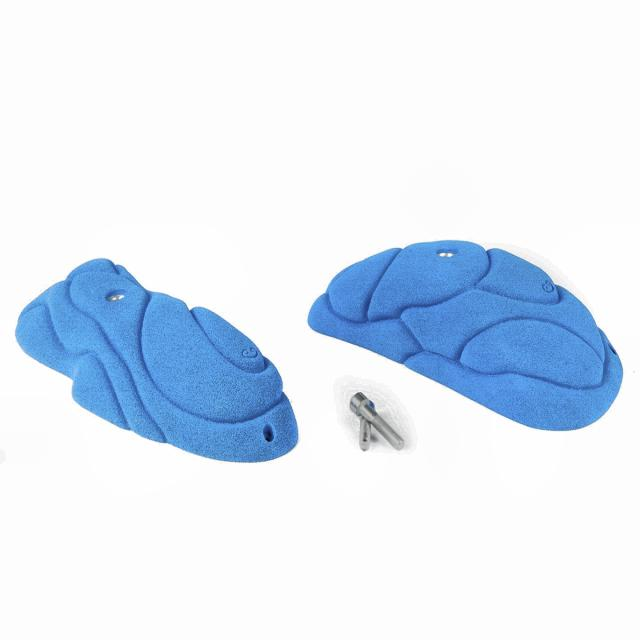Hold: (302, 237, 623, 433), (15, 256, 303, 468)
